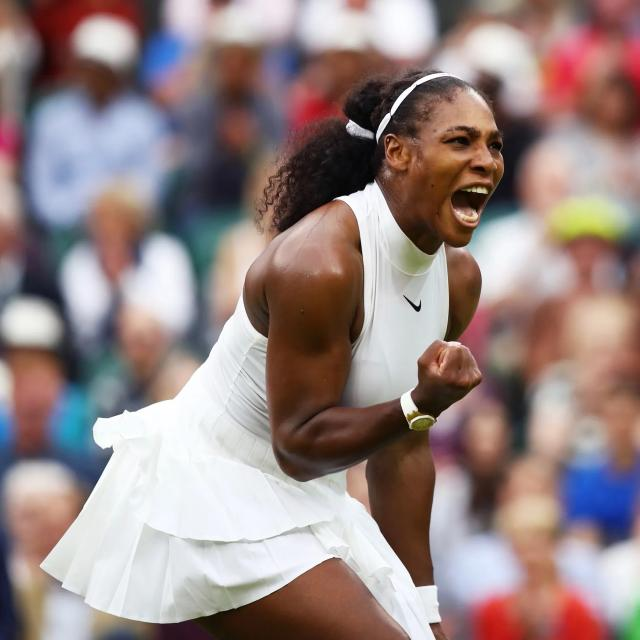nike: (398, 287, 429, 314)
